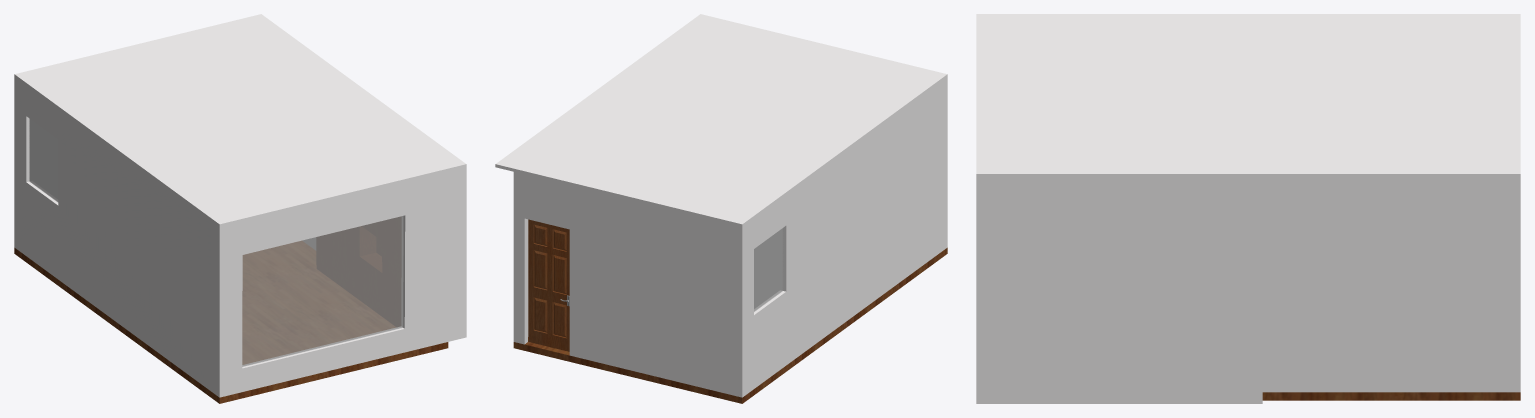
The model's file is room.glb.
3 renders of one model, left to right at view 1: azimuth 30°, elevation 25°; view 2: azimuth 150°, elevation 25°; view 3: azimuth 270°, elevation 25°, orthographic. The views are drawn at different scales.
Parts seen in each view (by area): view 1: 29608, Ceiling, Big window, 29619, 668830, Drawer face#1, Big window#1; view 2: 29608, Ceiling, Componente#4, 29619, Big window#1; view 3: 29608, Ceiling, 29619.
Part boxes in pixels (x1=…): 29608: x1=14, y1=77, x2=466, y2=397; Ceiling: x1=14, y1=14, x2=466, y2=227; Big window: x1=242, y1=216, x2=403, y2=366; 29619: x1=14, y1=241, x2=448, y2=403; 668830: x1=317, y1=217, x2=401, y2=326; Drawer face#1: x1=316, y1=227, x2=357, y2=294; Big window#1: x1=29, y1=118, x2=58, y2=201; 29608: x1=513, y1=77, x2=947, y2=397; Ceiling: x1=495, y1=14, x2=947, y2=227; Componente#4: x1=528, y1=219, x2=569, y2=351; 29619: x1=513, y1=247, x2=947, y2=403; Big window#1: x1=754, y1=228, x2=783, y2=311; 29608: x1=976, y1=178, x2=1520, y2=403; Ceiling: x1=976, y1=14, x2=1520, y2=177; 29619: x1=1262, y1=392, x2=1520, y2=400.
Bounding box in the file's own units: 4.17 × 2.9 × 5.99.
494 materials, 441 textured.
